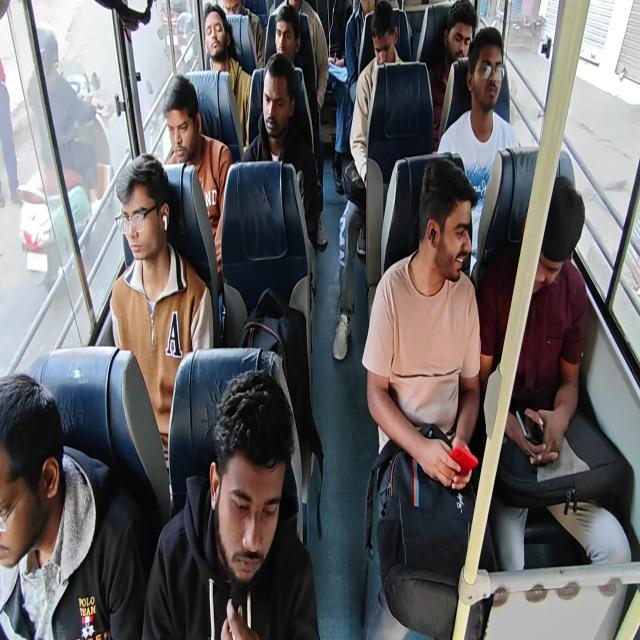person: (211, 384, 336, 640), (0, 374, 101, 640), (116, 167, 219, 360), (516, 171, 596, 375), (404, 174, 486, 335), (152, 78, 214, 198), (463, 32, 512, 167), (254, 74, 303, 160), (312, 0, 365, 79), (202, 18, 243, 92), (375, 13, 408, 83), (444, 20, 479, 86), (274, 8, 298, 66), (353, 0, 382, 32), (225, 0, 248, 35), (278, 0, 306, 18)
